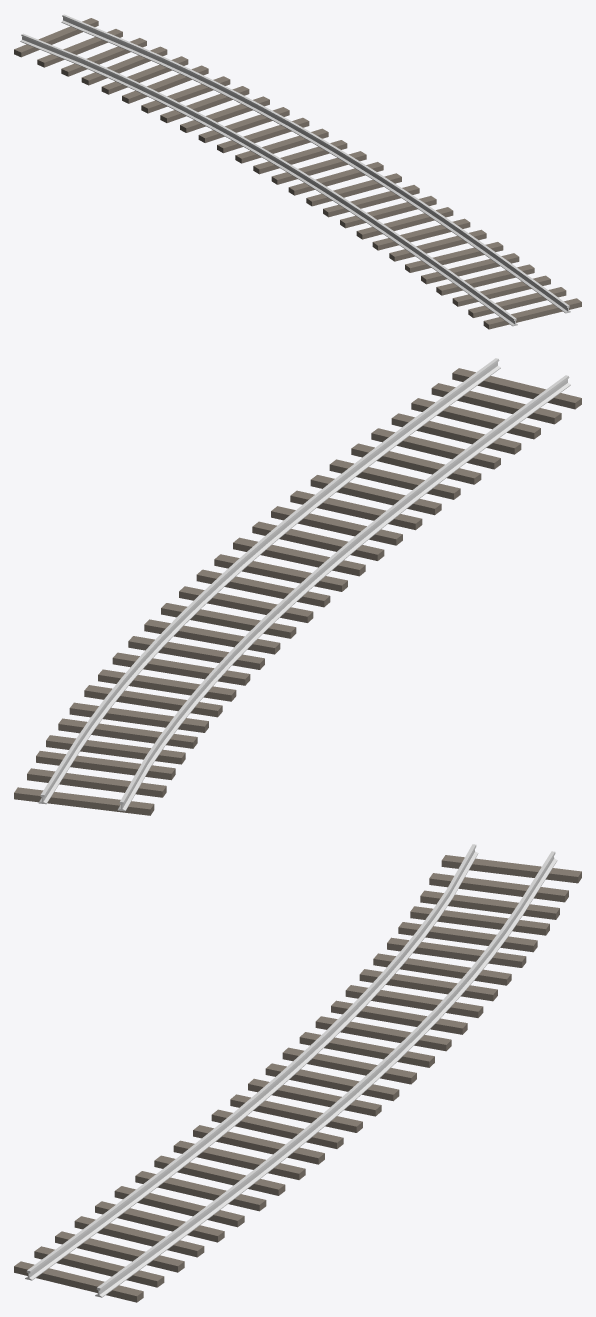
The model's file is rail_turn_left.fbx.
3 views of the same model, one above another, from view 1: azimuth 30°, elevation 25°; view 2: azimuth 150°, elevation 25°; view 3: azimuth 330°, elevation 25° (orthographic). The views are drawn at different scales.
Parts seen in each view (by area): view 1: rail_turn_left; view 2: rail_turn_left; view 3: rail_turn_left.
Part boxes in pixels (<box>): rail_turn_left: <box>14,14,581,329</box>; rail_turn_left: <box>14,358,581,815</box>; rail_turn_left: <box>14,844,581,1302</box>.
Bounding box in the file's own units: 467 × 31 × 2056.
